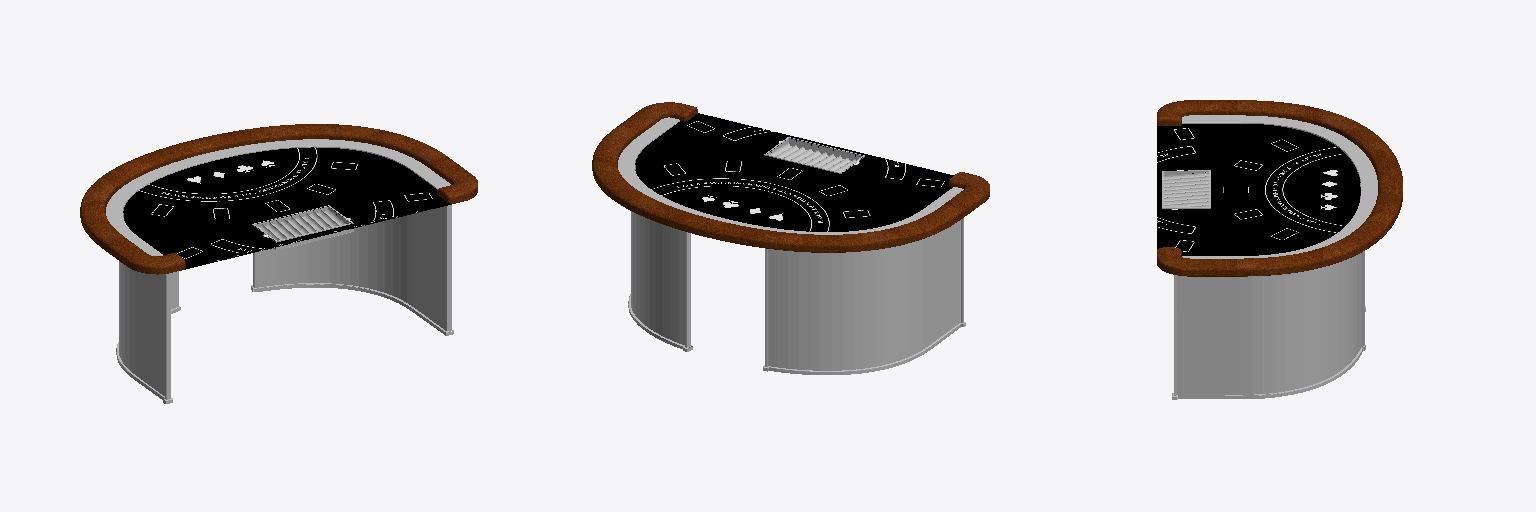
3 renders of one model, left to right at view 1: azimuth 30°, elevation 25°; view 2: azimuth 150°, elevation 25°; view 3: azimuth 270°, elevation 25°, orthographic.
Parts seen in each view (by area): view 1: Shape01.001_메쉬.002, Shape05.004_메쉬.002, Shape02.001_메쉬.002, Shape04.004_메쉬.002, Shape03.001_메쉬.002, Cylinder1039_메쉬.002, Shape05.005_메쉬.002; view 2: Shape04.004_메쉬.002, Shape01.001_메쉬.002, Shape02.001_메쉬.002, Shape05.004_메쉬.002, Shape03.001_메쉬.002, Cylinder1039_메쉬.002, Shape04.005_메쉬.002; view 3: Shape05.004_메쉬.002, Shape01.001_메쉬.002, Shape02.001_메쉬.002, Shape03.001_메쉬.002, Cylinder1039_메쉬.002, Shape05.005_메쉬.002.
Boxes of the visible parts, x1,y1,x2,y2 form: Shape01.001_메쉬.002: [123, 147, 449, 269]; Shape05.004_메쉬.002: [253, 205, 451, 330]; Shape02.001_메쉬.002: [80, 124, 477, 274]; Shape04.004_메쉬.002: [119, 210, 178, 399]; Shape03.001_메쉬.002: [106, 139, 450, 255]; Cylinder1039_메쉬.002: [252, 205, 353, 250]; Shape05.005_메쉬.002: [251, 283, 453, 335]; Shape04.004_메쉬.002: [765, 218, 963, 370]; Shape01.001_메쉬.002: [635, 113, 953, 231]; Shape02.001_메쉬.002: [592, 102, 989, 252]; Shape05.004_메쉬.002: [631, 165, 690, 347]; Shape03.001_메쉬.002: [618, 117, 963, 234]; Cylinder1039_메쉬.002: [764, 137, 864, 173]; Shape04.005_메쉬.002: [763, 322, 965, 374]; Shape05.004_메쉬.002: [1174, 251, 1364, 395]; Shape01.001_메쉬.002: [1157, 124, 1360, 255]; Shape02.001_메쉬.002: [1157, 100, 1402, 276]; Shape03.001_메쉬.002: [1182, 115, 1377, 258]; Cylinder1039_메쉬.002: [1162, 170, 1210, 208]; Shape05.005_메쉬.002: [1172, 345, 1365, 399].
Bounding box in the file's own units: 0.9259 × 0.3775 × 0.5716.
Materials: 5 (2 with a texture image).